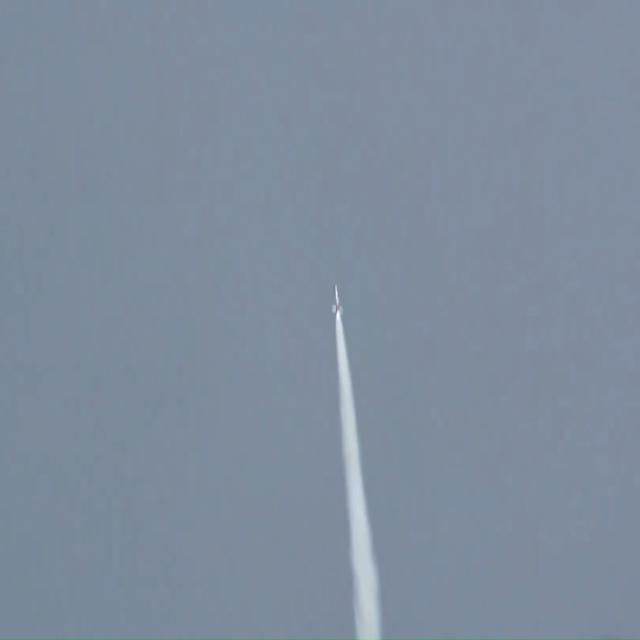Rocket: (333, 285, 343, 317)
